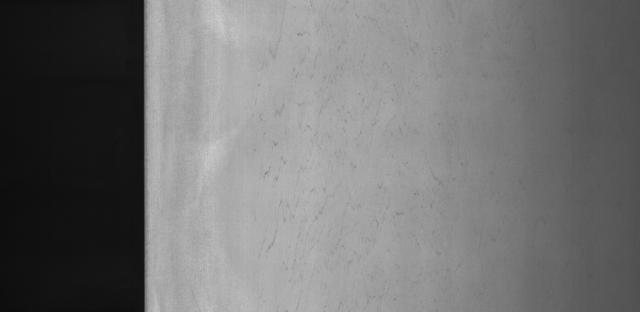silk_spot: (241, 14, 400, 265)
